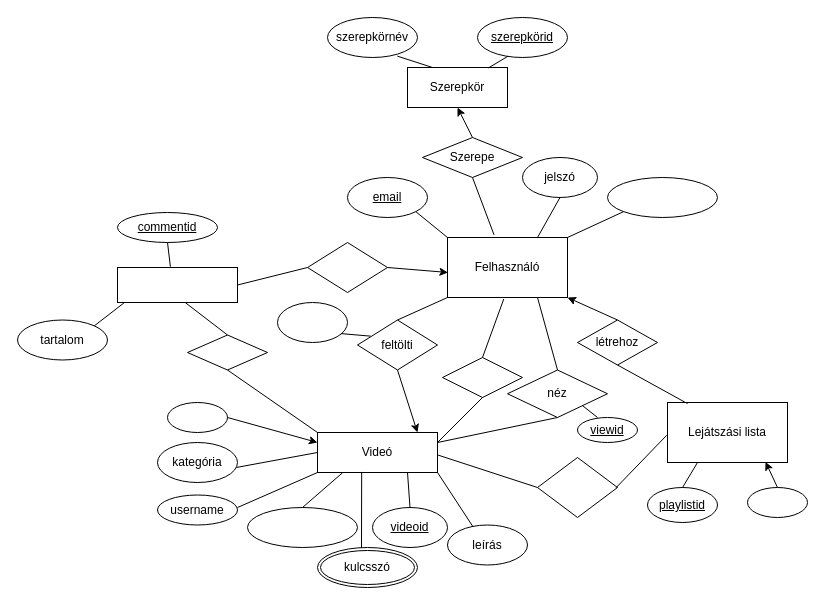
Image size: 825x605. Some labels were removed from this diagram. Here are the shapes that lost their labels. From the top down, the box of each, then its label:
(606, 176, 718, 218): felhasználónév
(116, 266, 238, 302): Hozzászólás
(306, 242, 388, 292): megír
(276, 302, 348, 342): feltöltés ideje
(186, 334, 268, 370): tartozik
(442, 356, 522, 398): kedveli
(166, 402, 228, 432): videocím
(536, 456, 618, 518): hozzáad
(746, 486, 808, 518): playlistnév
(246, 506, 358, 548): megtekintés szám
